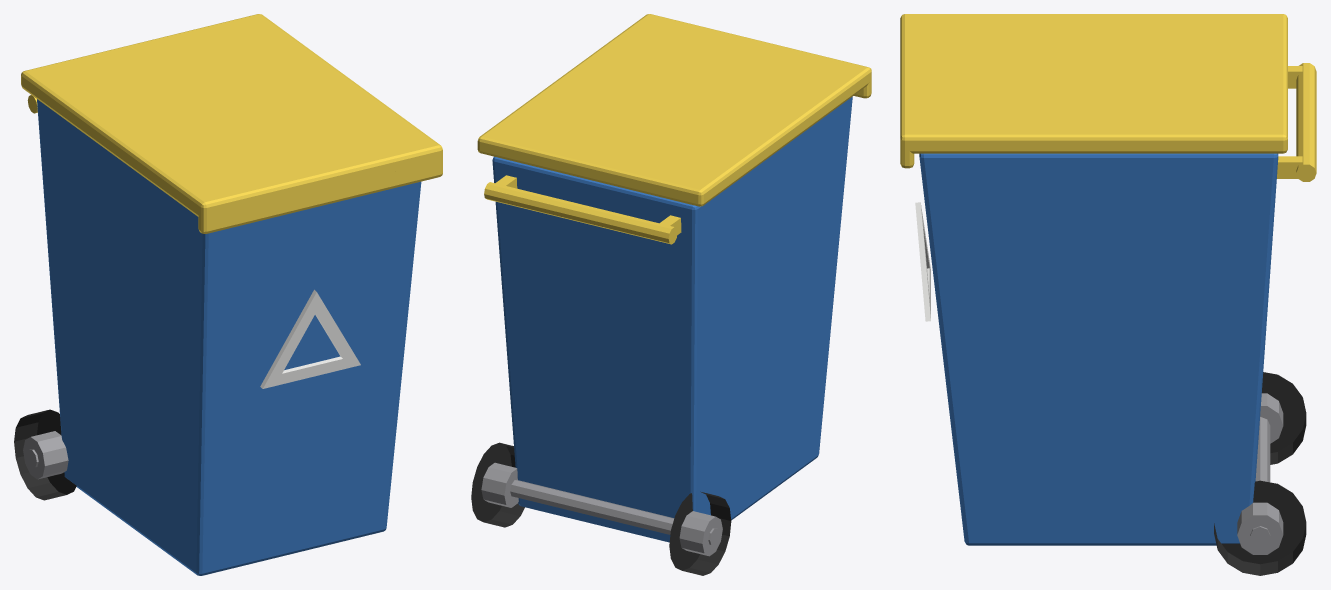
Rendered from wheelie-bin-recycle.glb.
3 renders of one model, left to right at view 1: azimuth 30°, elevation 25°; view 2: azimuth 150°, elevation 25°; view 3: azimuth 270°, elevation 25°, orthographic. The views are drawn at different scales.
Parts seen in each view (by area): view 1: body, lid, wheels, emblem; view 2: body, lid, wheels, handle; view 3: body, lid, wheels, handle, emblem.
Part boxes in pixels (left/top/right/bottom): body: left=37, top=99, right=421, bottom=575; lid: left=21, top=14, right=442, bottom=233; wheels: left=14, top=409, right=76, bottom=500; emblem: left=260, top=289, right=360, bottom=388; body: left=492, top=97, right=852, bottom=542; lid: left=477, top=14, right=871, bottom=206; wheels: left=471, top=442, right=731, bottom=575; handle: left=484, top=175, right=681, bottom=244; body: left=919, top=153, right=1278, bottom=545; lid: left=900, top=14, right=1287, bottom=168; wheels: left=1214, top=372, right=1306, bottom=575; handle: left=1277, top=63, right=1316, bottom=181; emblem: left=915, top=202, right=930, bottom=321.
Bounding box in the file's own units: 0.64 × 1.05 × 0.902.
